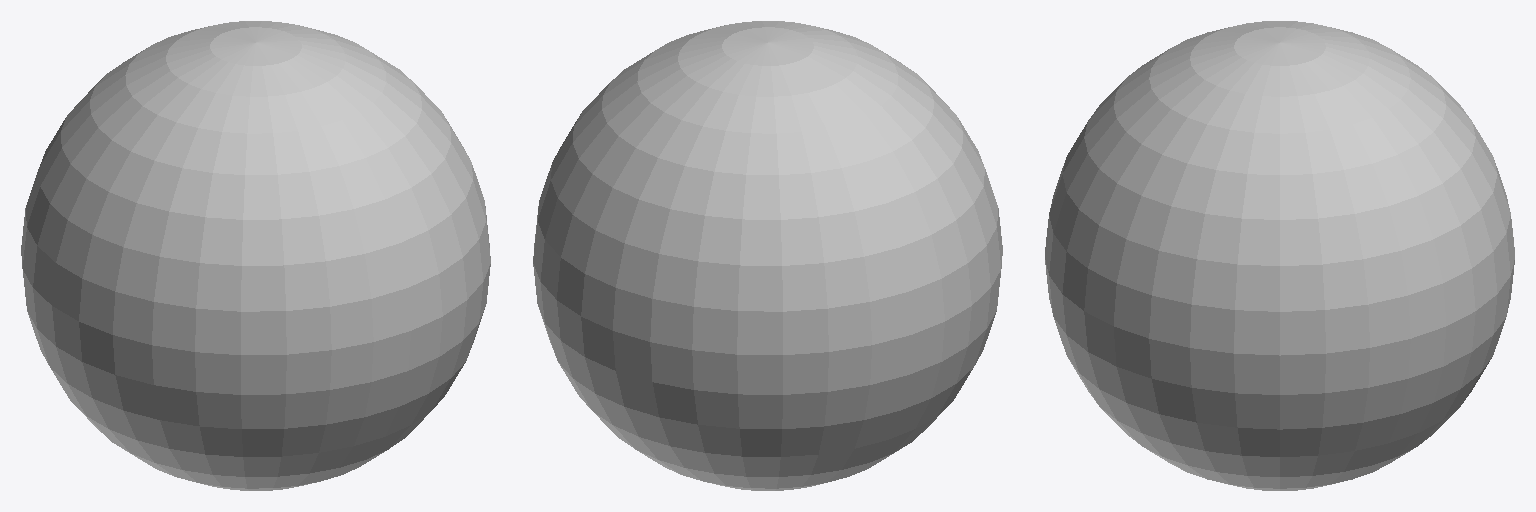
The model's file is planet.obj.
3 renders of one model, left to right at view 1: azimuth 30°, elevation 25°; view 2: azimuth 150°, elevation 25°; view 3: azimuth 270°, elevation 25°, orthographic.
Visible parts, largest first — view 1: Sphere_Sphere.001; view 2: Sphere_Sphere.001; view 3: Sphere_Sphere.001.
Boxes of the visible parts, <box> form: Sphere_Sphere.001: <box>21,21,490,490</box>; Sphere_Sphere.001: <box>533,21,1002,490</box>; Sphere_Sphere.001: <box>1045,21,1514,490</box>.
Size of the model in its own units: 0.8 by 0.8 by 0.8.